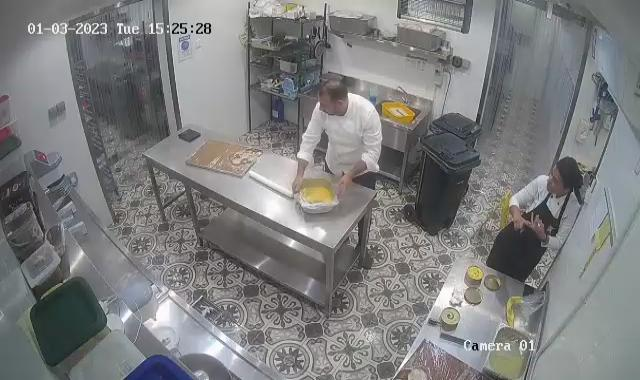no_hairnet: (547, 158, 585, 196), (317, 78, 349, 113)
